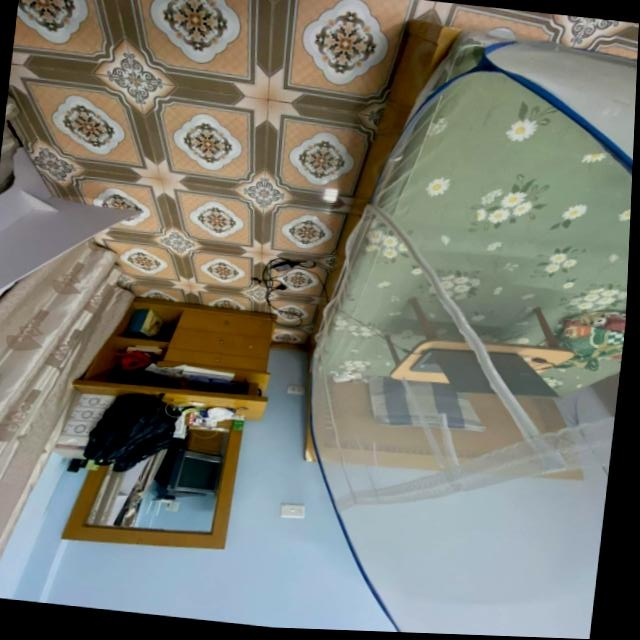outlet: (286, 384, 306, 394)
